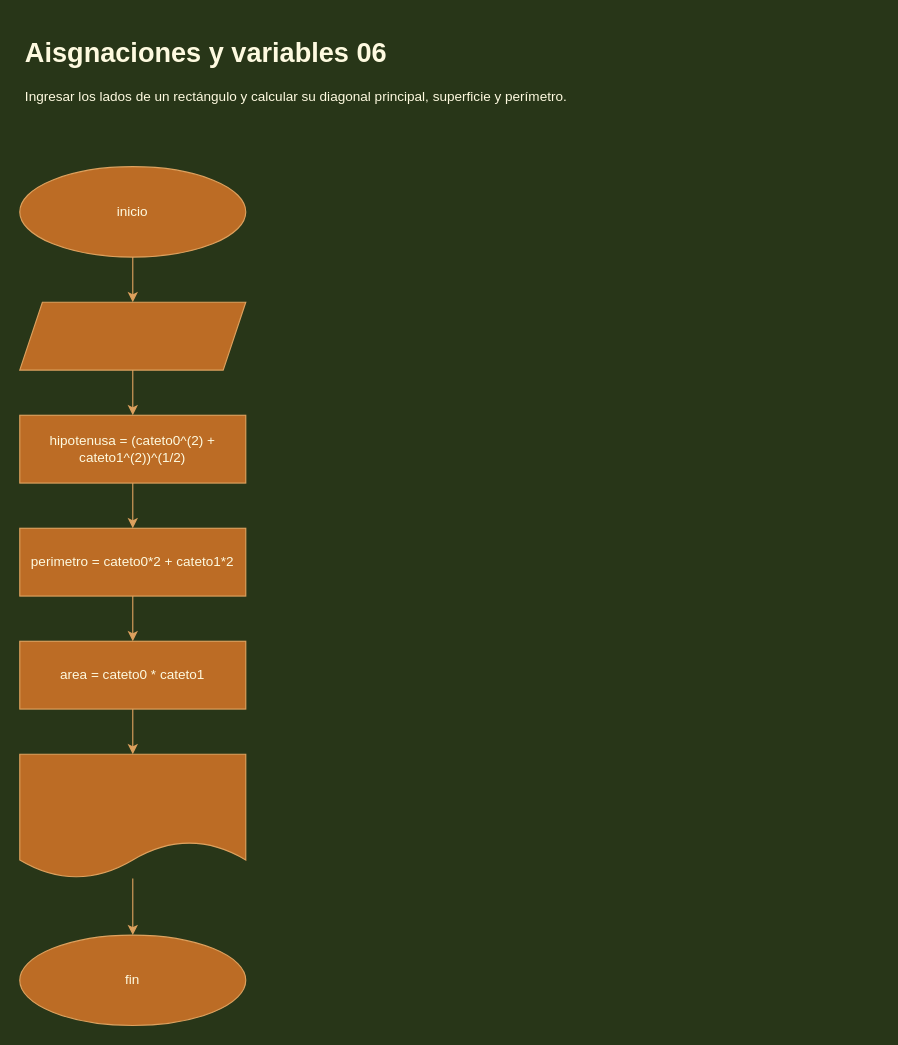
The diagram is 898 pixels wide and 1045 high, and some of its shapes have lost their labels. The shapes that lost their labels are listed below. From the top down, each one's box as (x1, y1, x2, y2) in pixels, then its label:
(19, 301, 246, 370): cateto0 cateto1
(19, 753, 246, 879): Diagonal principal = (hipotenusa) Perímetro = (perimetro) Área = (area)
